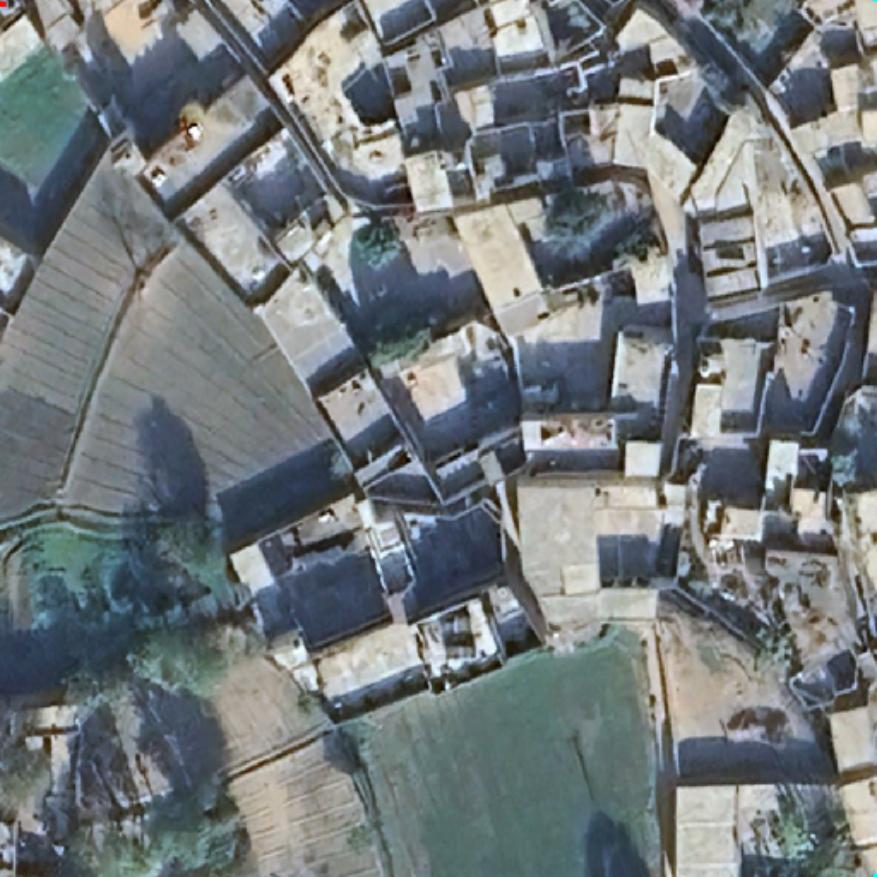Solarpanel: (442, 640, 478, 662)
